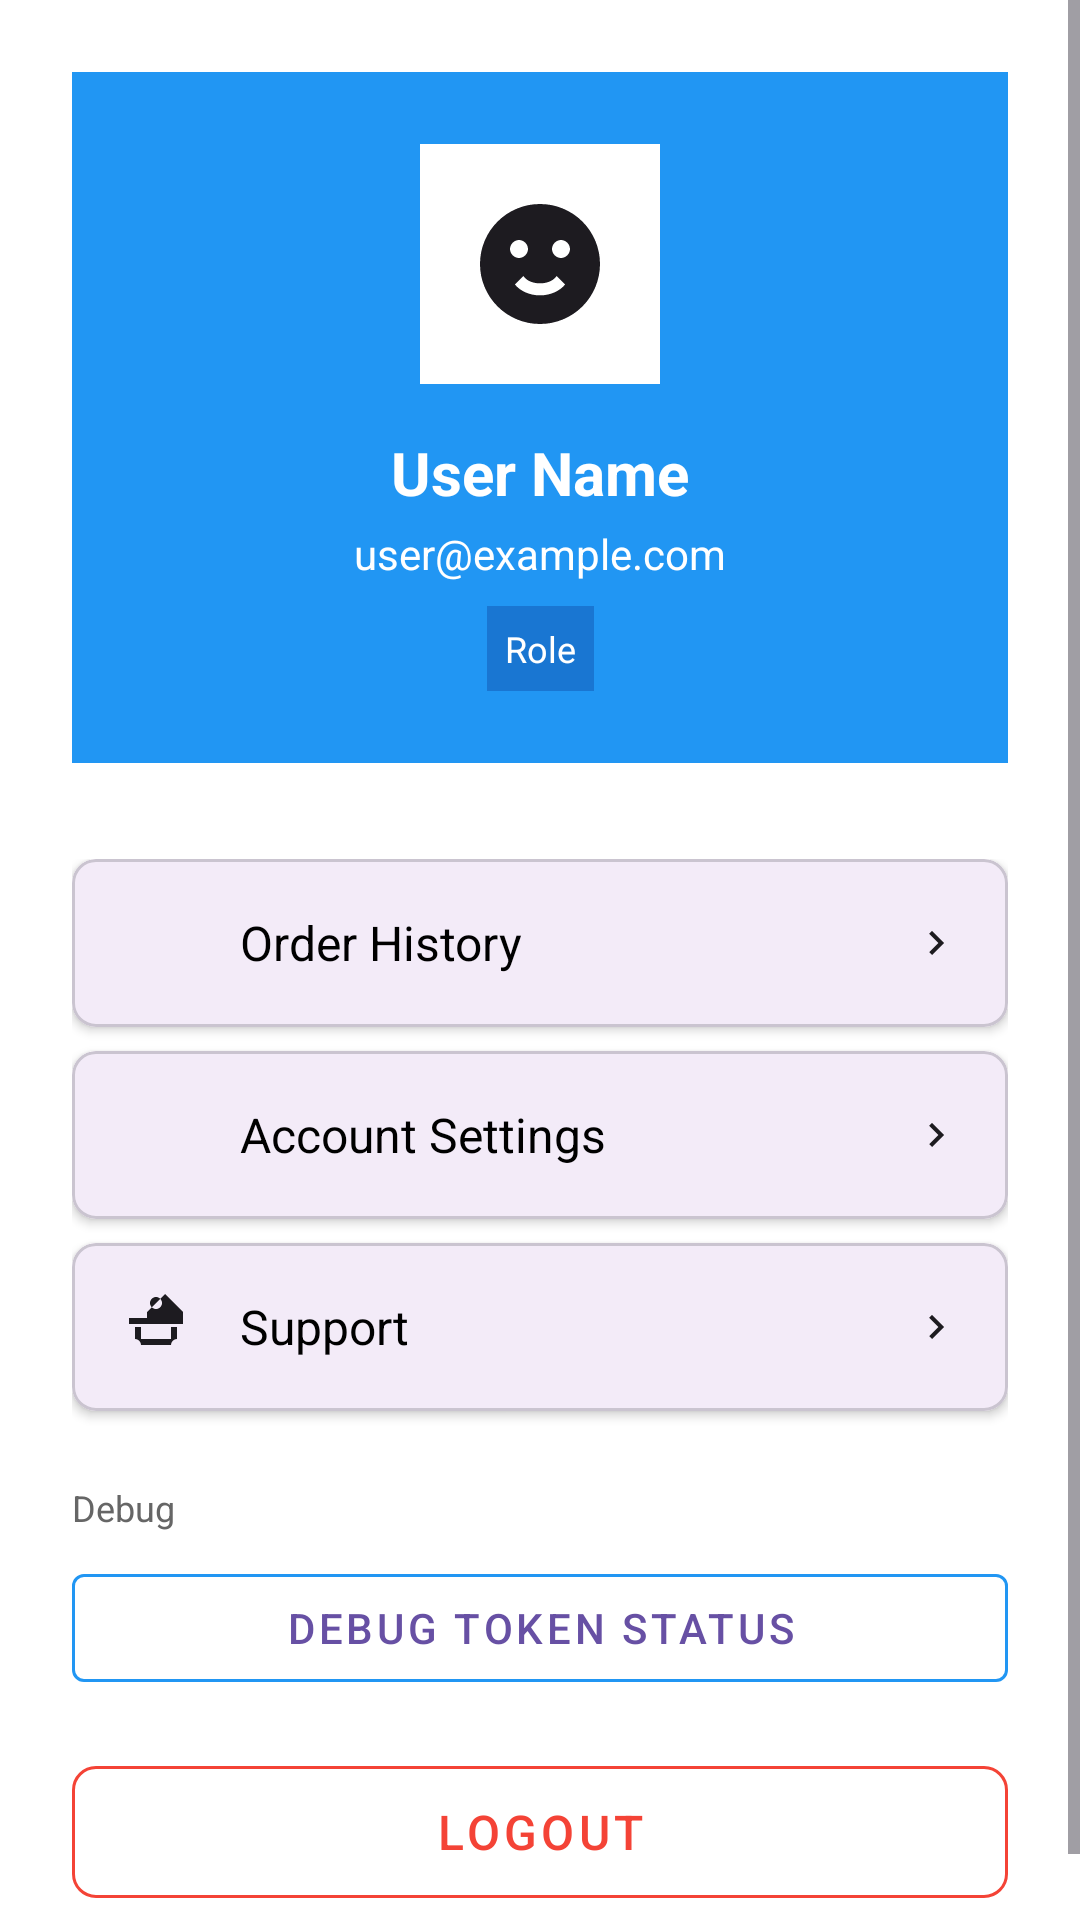

Icon bounding boxes for this 1080×1920 phone screenshot, format (x1,y1,x2,y2):
arrow right: (929,931,944,955), (929,1123,944,1147), (929,1315,944,1339)
person: (420,144,660,384)
